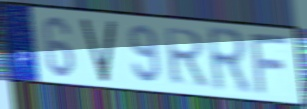6: (41, 14, 77, 80)
9: (128, 23, 162, 85)
F: (248, 33, 292, 96)
R: (204, 25, 254, 97), (162, 26, 210, 88)
V: (79, 18, 117, 84)
